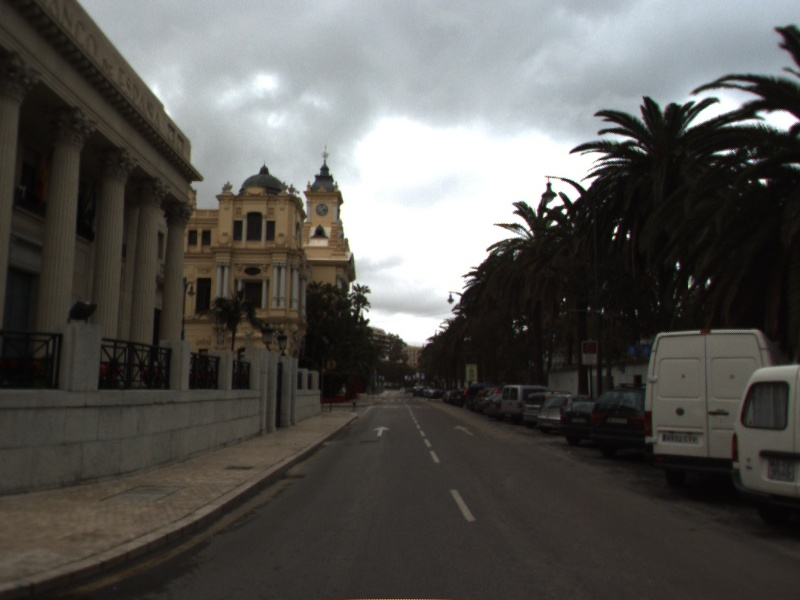STRAIGHT: (452, 423, 476, 437), (371, 424, 392, 439)
